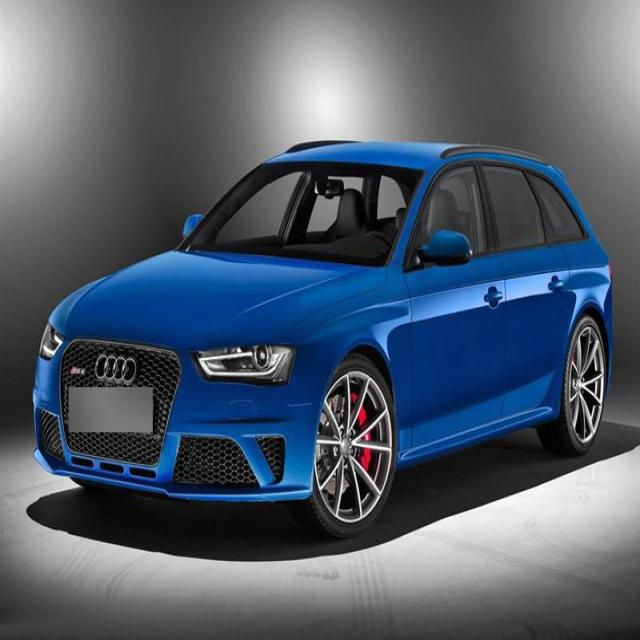back_left_side_light: (604, 255, 614, 280)
door: (476, 154, 572, 426)
front_bumper: (32, 362, 324, 504)
front_glass: (180, 158, 427, 270)
front_left_side_door: (401, 156, 509, 460)
front_left_side_light: (189, 342, 300, 387)
front_left_side_mirror: (409, 228, 473, 269)
front_right_side_light: (37, 318, 67, 362)
front_right_side_mirror: (183, 212, 205, 244)
wheel: (292, 352, 398, 540), (534, 315, 608, 456)
